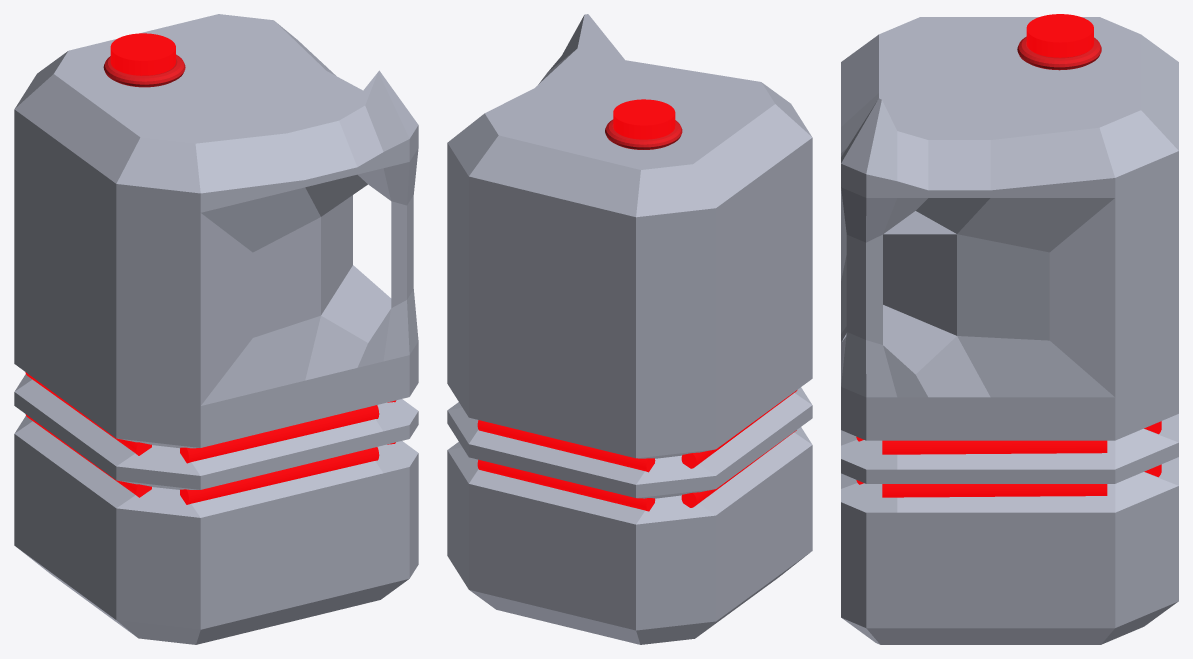
File: milkjug.glb
3 views of the same model, side by side, from view 1: azimuth 30°, elevation 25°; view 2: azimuth 150°, elevation 25°; view 3: azimuth 270°, elevation 25° (orthographic). The views are drawn at different scales.
Parts seen in each view (by area): view 1: Cube, Cylinder.013, Cylinder.012, Cylinder, Torus.001; view 2: Cube, Cylinder, Cylinder.014, Cylinder.011, Torus.001, Cylinder.015; view 3: Cube, Cylinder.016, Cylinder.009, Cylinder, Torus.001.
Boxes of the visible parts, <box> form: Cube: <box>14,14,418,644</box>; Cylinder.013: <box>180,405,379,463</box>; Cylinder.012: <box>180,447,379,504</box>; Cylinder: <box>110,33,175,75</box>; Torus.001: <box>103,54,185,87</box>; Cube: <box>447,14,812,644</box>; Cylinder: <box>613,99,675,139</box>; Cylinder.014: <box>477,420,655,472</box>; Cylinder.011: <box>477,459,655,511</box>; Torus.001: <box>605,119,682,149</box>; Cylinder.015: <box>681,390,797,468</box>; Cube: <box>841,17,1178,644</box>; Cylinder.016: <box>882,440,1107,454</box>; Cylinder.009: <box>882,484,1107,497</box>; Cylinder: <box>1026,14,1093,57</box>; Torus.001: <box>1017,36,1101,70</box>.
Size of the model in its own units: 2 by 3.55 by 2.
